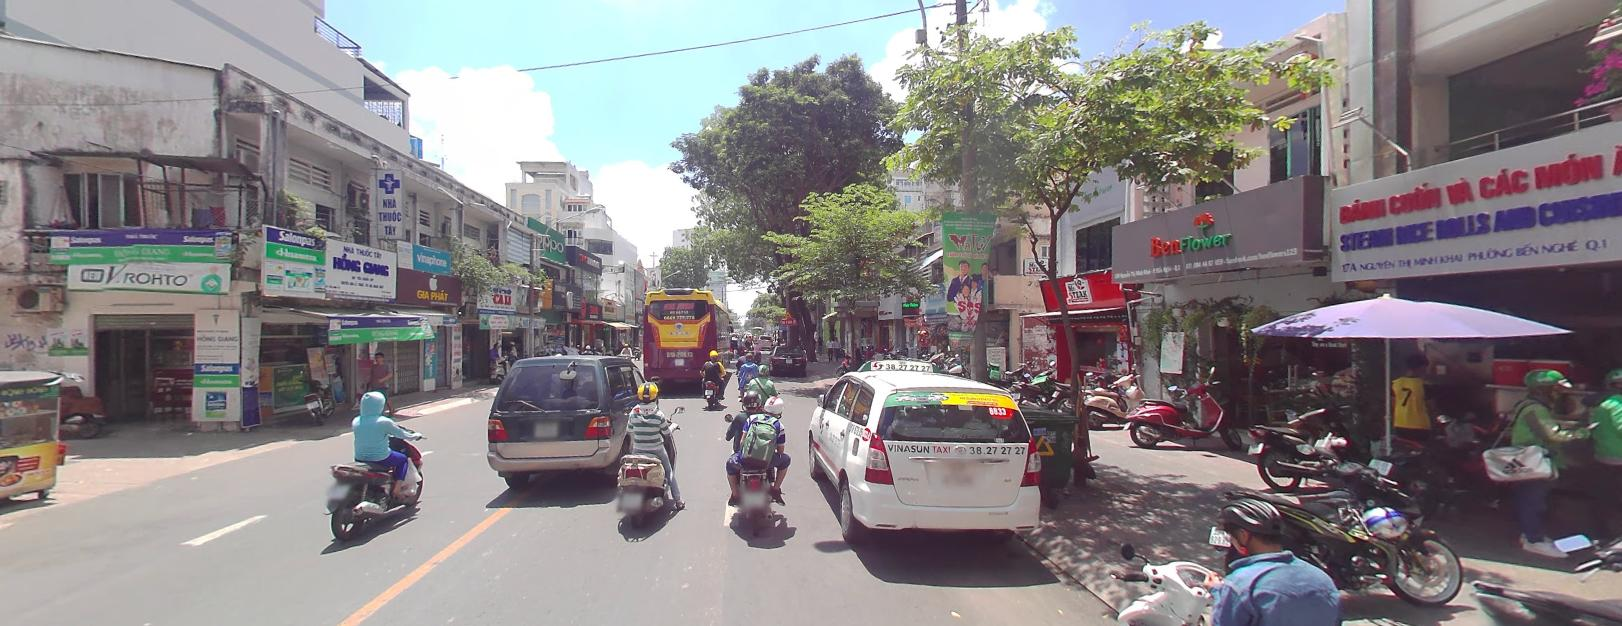Nguy hiem: (782, 309, 793, 317)
